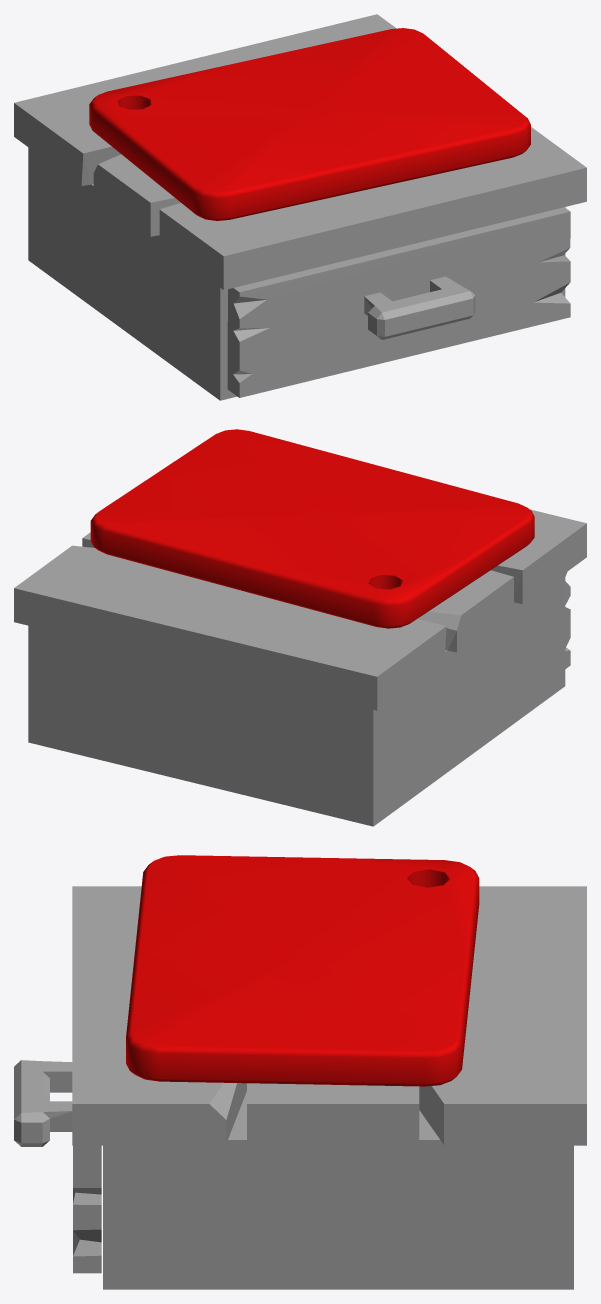
File: choppingboard_Shipwreck_mesh.fbx
3 views of the same model, one above another, from view 1: azimuth 30°, elevation 25°; view 2: azimuth 150°, elevation 25°; view 3: azimuth 270°, elevation 25° (orthographic). The views are drawn at different scales.
Parts seen in each view (by area): view 1: choppingboard_Shipwreck_mesh; view 2: choppingboard_Shipwreck_mesh; view 3: choppingboard_Shipwreck_mesh.
Part boxes in pixels (x1=…): choppingboard_Shipwreck_mesh: x1=14, y1=14, x2=586, y2=400; choppingboard_Shipwreck_mesh: x1=14, y1=429, x2=586, y2=826; choppingboard_Shipwreck_mesh: x1=14, y1=855, x2=586, y2=1289.
Bounding box in the file's own units: 1 × 0.4988 × 1.11.
